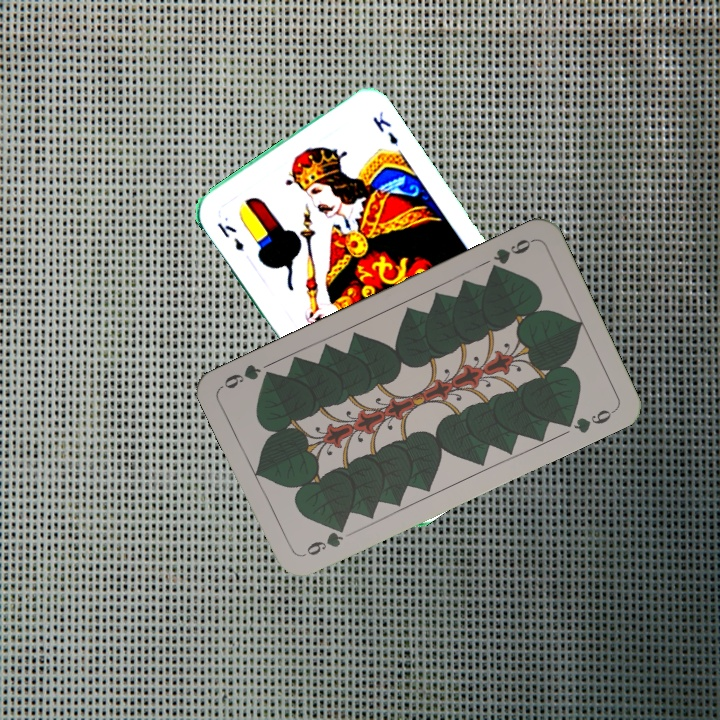EK: (213, 218, 247, 254)
G9: (486, 235, 537, 276), (298, 521, 348, 560)
